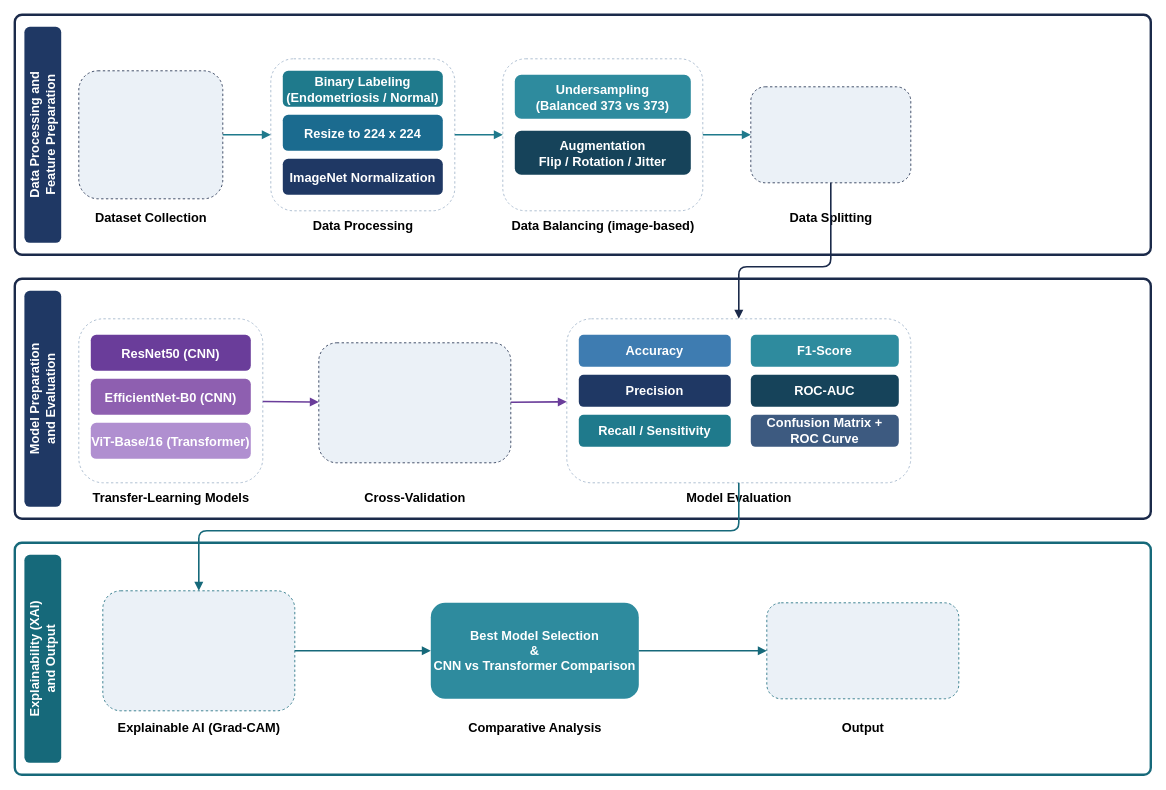
This 1166x790 diagram has some shape labels left out. Each missing label, with the centre of its shape:
5-Fold Cross-Validation Train Fold | Validation Fold: point 414,402
Conclusion (Optional) Web Deployment for Clinical Screening: point 862,650
GLENDA v1.5 Laparoscopy Images 373 Endometriosis 13,438 No-pathology: point 150,134
Grad-CAM Heatmaps Lesion-region visualization (CNN + ViT): point 198,650
Split Data Train 70% / Val 15% / Test 15% + 5-Fold Cross-Validation: point 830,134
